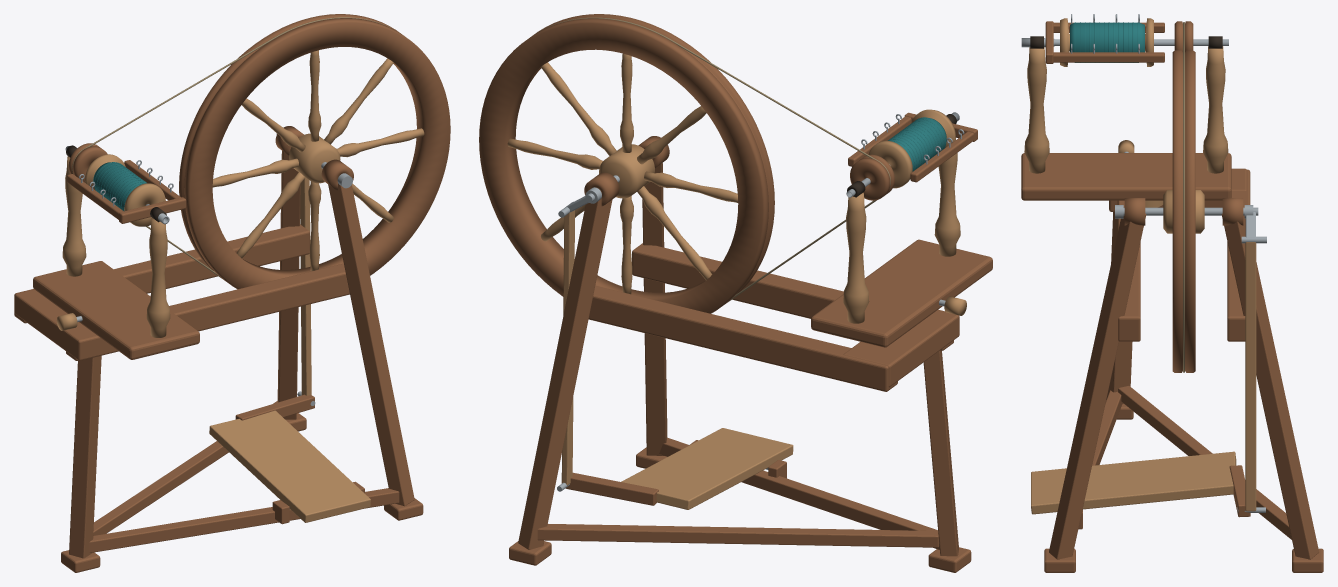
3 renders of one model, left to right at view 1: azimuth 30°, elevation 25°; view 2: azimuth 150°, elevation 25°; view 3: azimuth 270°, elevation 25°, orthographic. The views are drawn at different scales.
Parts seen in each view (by area): view 1: Large grooved drive wheel rim, Single rounded treadle footboard, Flyer mother-of-all platform, Splayed stand leg 1, Open table longitudinal rail -1, Splayed stand leg 0, Open table longitudinal rail 1, Front floor treadle crossbar, Splayed stand leg 2, Left table cross member, Rear diagonal lower stretcher, Turned flyer maiden -0.255 (+20 smaller); view 2: Large grooved drive wheel rim, Open table longitudinal rail 1, Flyer mother-of-all platform, Splayed stand leg 2, Single rounded treadle footboard, Rear diagonal lower stretcher, Open table longitudinal rail -1, Splayed stand leg 0, Splayed stand leg 1, Front floor treadle crossbar, Left table cross member, Turned flyer maiden 0.055 (+20 smaller); view 3: Splayed stand leg 1, Flyer mother-of-all platform, Single rounded treadle footboard, Splayed stand leg 2, Large grooved drive wheel rim, Treadle wooden connecting rod, Rear diagonal lower stretcher, Turned flyer maiden 0.055, Turned flyer maiden -0.255, Teal yarn winding, Open table longitudinal rail 1, Open table longitudinal rail -1 (+15 smaller).
Part boxes in pixels (box(x1,y1,x2,y2)): Large grooved drive wheel rim: box(179, 14, 450, 289); Single rounded treadle footboard: box(209, 410, 370, 522); Flyer mother-of-all platform: box(33, 261, 199, 359); Splayed stand leg 1: box(328, 183, 414, 506); Open table longitudinal rail -1: box(66, 263, 349, 360); Splayed stand leg 0: box(69, 355, 101, 558); Open table longitudinal rail 1: box(14, 224, 309, 323); Front floor treadle crossbar: box(89, 488, 399, 552); Splayed stand leg 2: box(277, 151, 300, 419); Left table cross member: box(14, 289, 118, 360); Rear diagonal lower stretcher: box(93, 400, 278, 535); Turned flyer maiden -0.255: box(146, 218, 170, 337); Large grooved drive wheel rim: box(479, 14, 774, 313); Open table longitudinal rail 1: box(588, 285, 897, 391); Flyer mother-of-all platform: box(811, 239, 992, 347); Splayed stand leg 2: box(518, 198, 612, 549); Single rounded treadle footboard: box(621, 428, 793, 509); Rear diagonal lower stretcher: box(537, 524, 939, 547); Open table longitudinal rail -1: box(632, 243, 953, 350); Splayed stand leg 0: box(923, 350, 958, 556); Splayed stand leg 1: box(642, 163, 667, 455); Front floor treadle crossbar: box(659, 437, 939, 549); Left table cross member: box(843, 309, 959, 387); Turned flyer maiden 0.055: box(843, 192, 869, 323); Splayed stand leg 1: box(1049, 206, 1146, 559); Flyer mother-of-all platform: box(1021, 153, 1231, 200); Single rounded treadle footboard: box(1031, 451, 1236, 514); Splayed stand leg 2: box(1221, 206, 1318, 559); Large grooved drive wheel rim: box(1172, 50, 1195, 372); Treadle wooden connecting rod: box(1245, 242, 1256, 511); Rear diagonal lower stretcher: box(1118, 385, 1291, 539); Turned flyer maiden 0.055: box(1203, 46, 1228, 173); Turned flyer maiden -0.255: box(1024, 47, 1049, 173); Teal yarn winding: box(1070, 22, 1144, 62); Open table longitudinal rail 1: box(1227, 169, 1250, 341); Open table longitudinal rail -1: box(1117, 200, 1140, 341).
Size of the model in its own units: 87.9 by 93 by 52.5.
